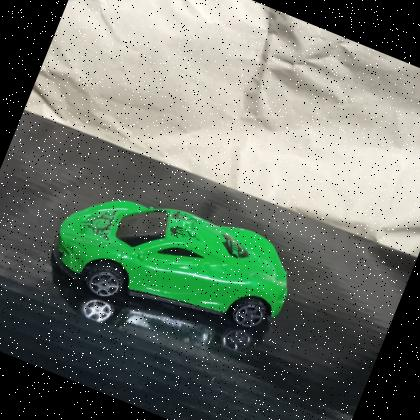Car: (32, 156, 312, 368)
